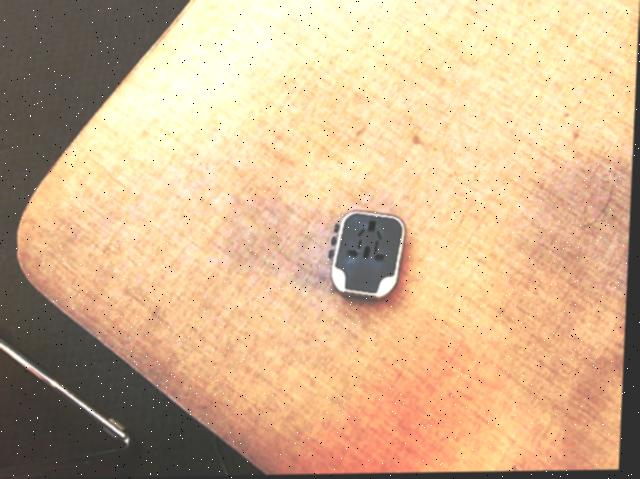adapter: (328, 211, 407, 302)
